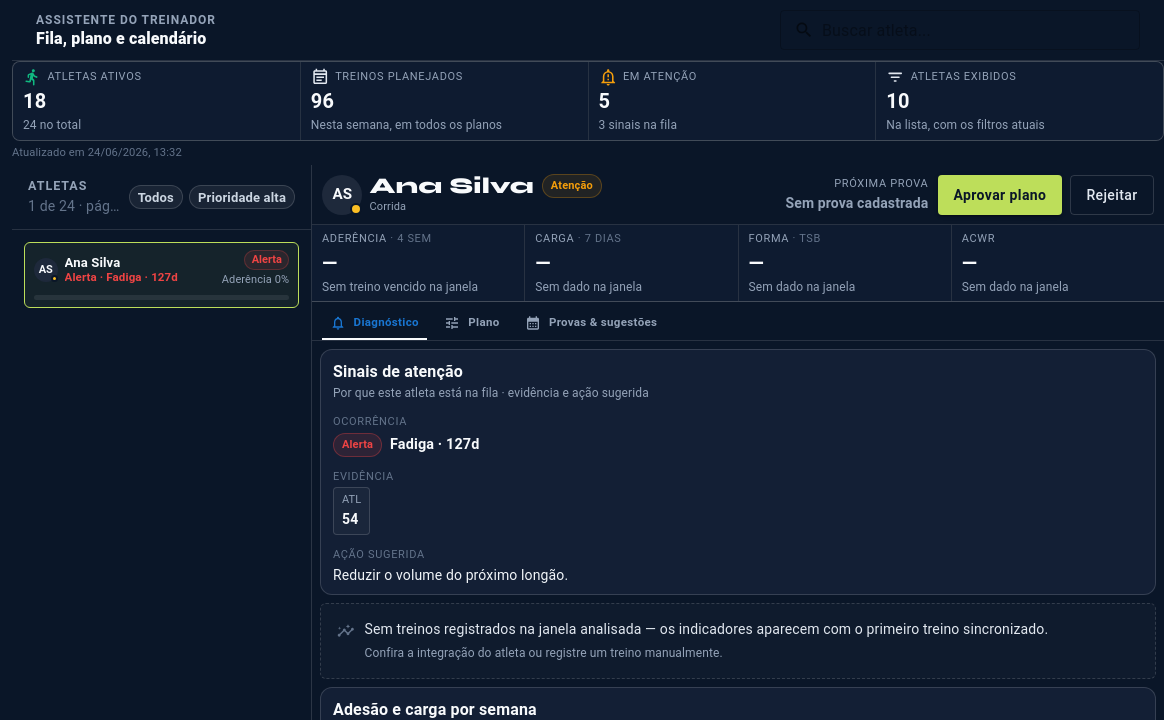
Test: CoachInboxPage › filtros na coluna da lista (task 2.11) › ordenar pelo chip aplica o sort
What coordinates should you click on to do the following:
click the button with aria-label "ordenar lista"
I would click on:
 (242, 197)
Its box is [189,185,295,209].
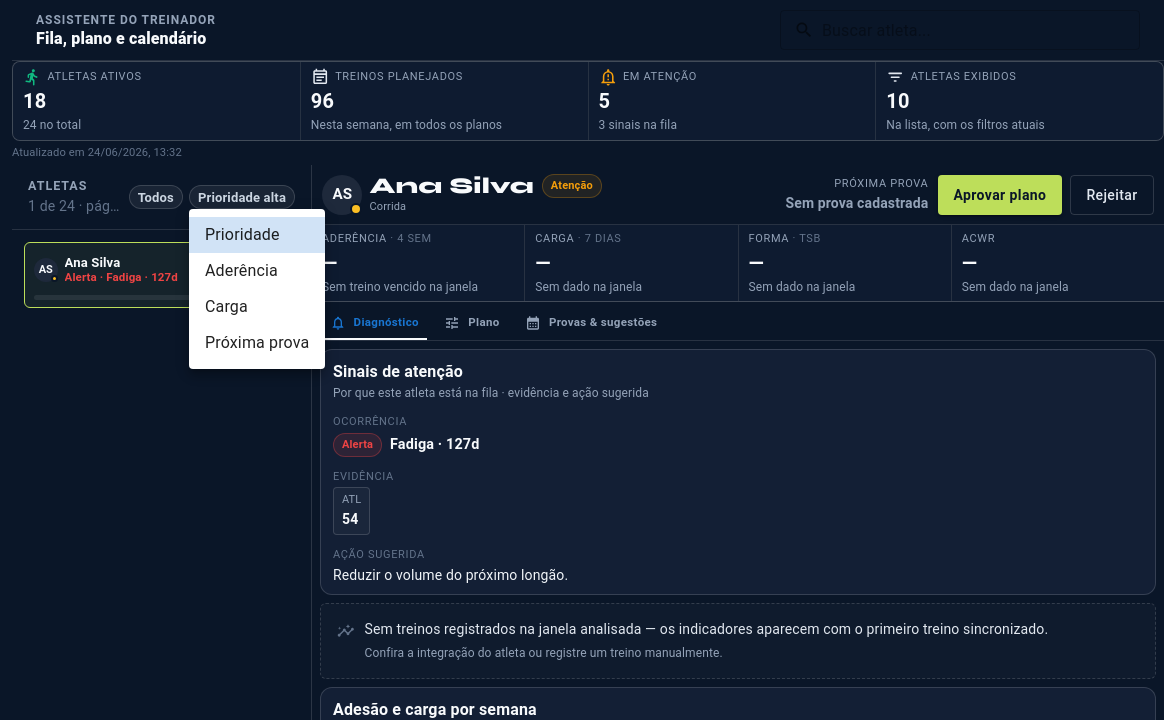
What coordinates should you click on to do the following:
click the menu item "Aderência"
I would click on:
 (241, 270)
Its box is [205,261,278,280].
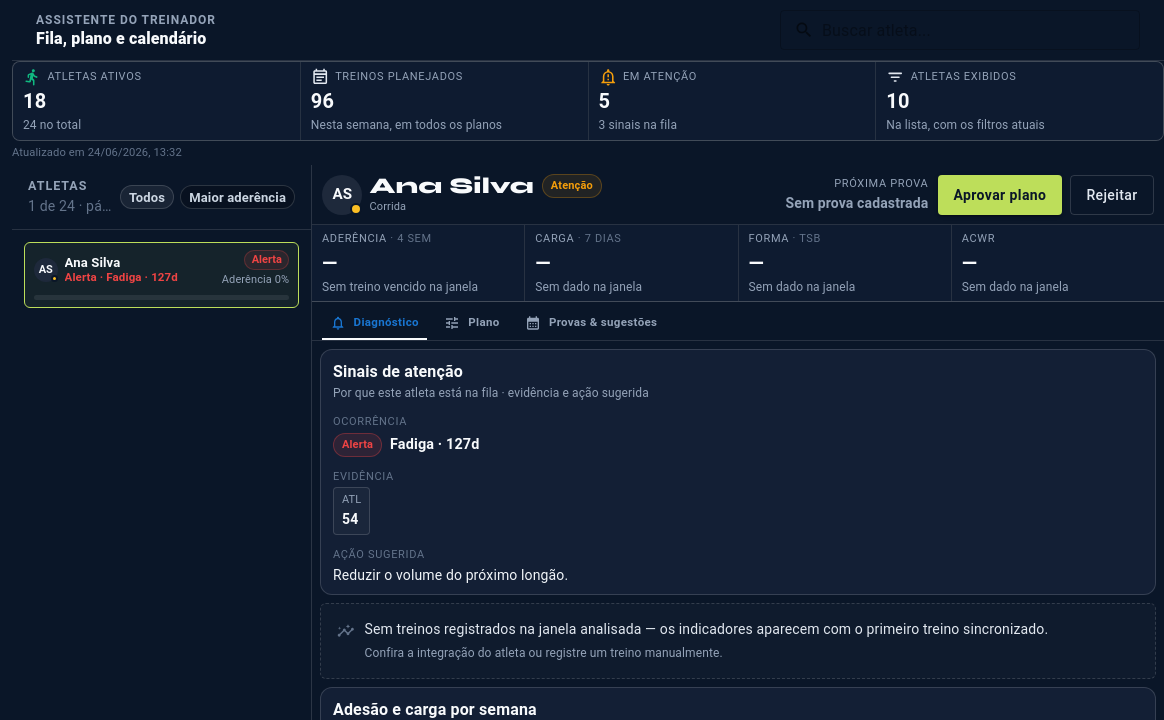
Now the button with aria-label "ordenar lista" shows "aderência", box [180,185,295,209]
